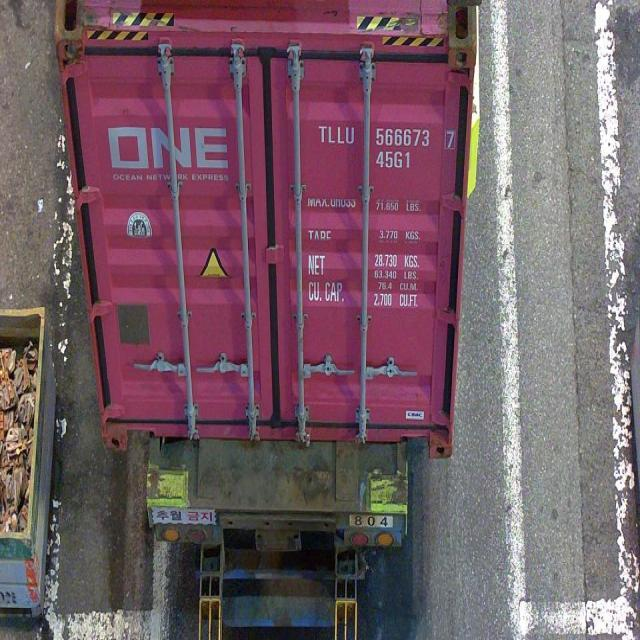ISO: (376, 150, 413, 168)
container_number: (318, 125, 450, 148)
